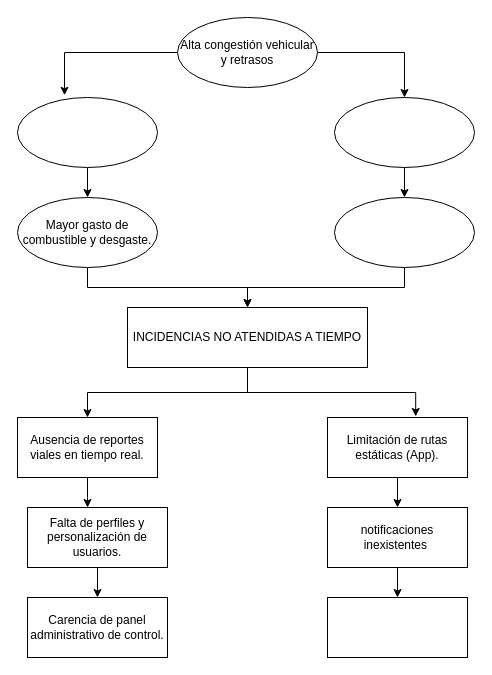
Some shapes in this 492 by 675 pixel diagram are drawn without their labels. The shapes that lost their labels are listed below. From the top down, each one's centre as x and y in pixels, then its label:
pixel 87 132: Decisiones de rutas desinformadas.
pixel 404 132: Subutilización de apps de transporte.
pixel 404 232: Estrés urbano e insatisfacción.
pixel 397 627: Desfase entre datos fijos y el crecimiento vehicular.
